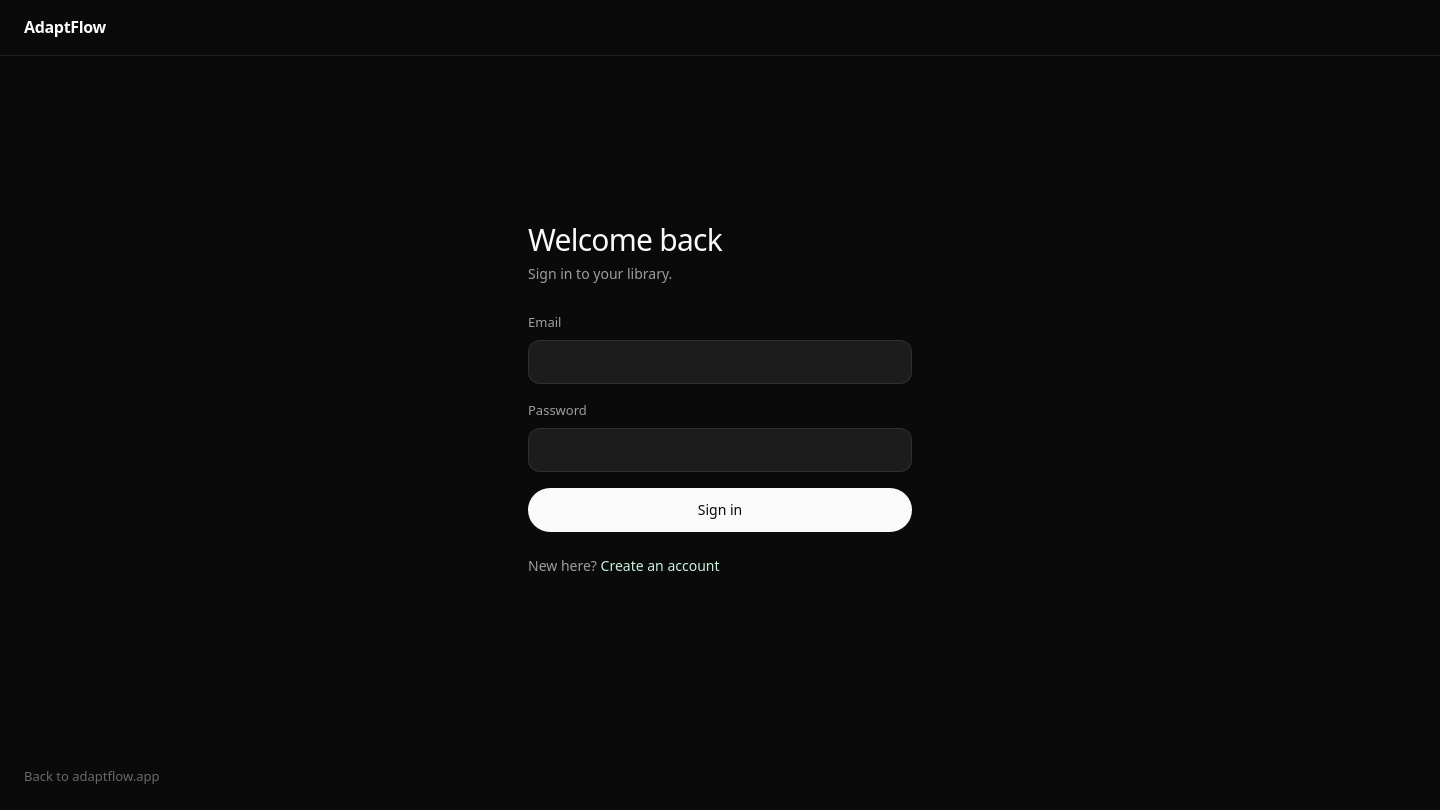
sign in › shows the server's message when the credentials are wrong
Step 1. Type "swapnil@example.com" into the field labelled "Email" → coordinates (720, 362), box [528,340,912,384]
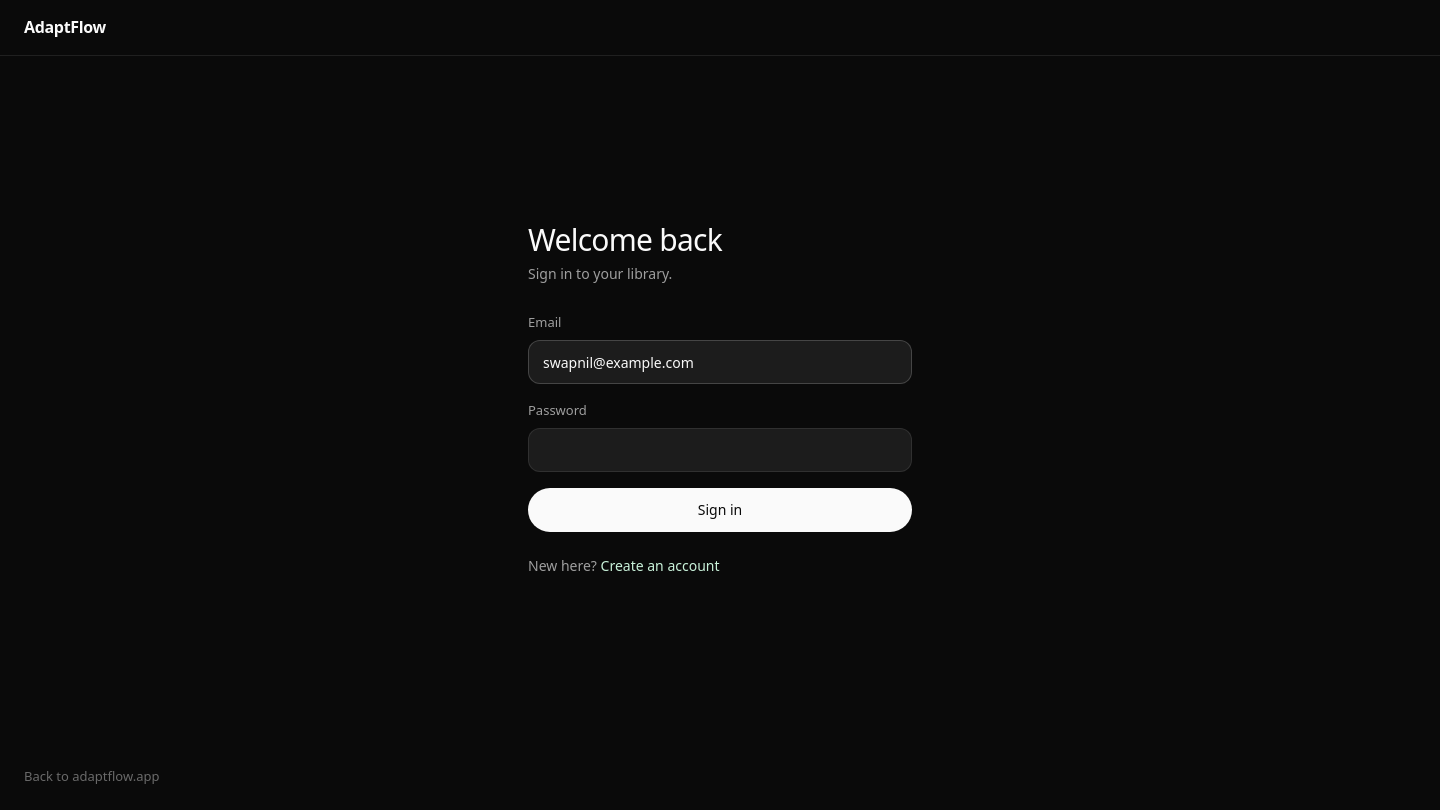
Step 2. Type "wrong" into the password field labelled "Password" → coordinates (720, 450), box [528,428,912,472]
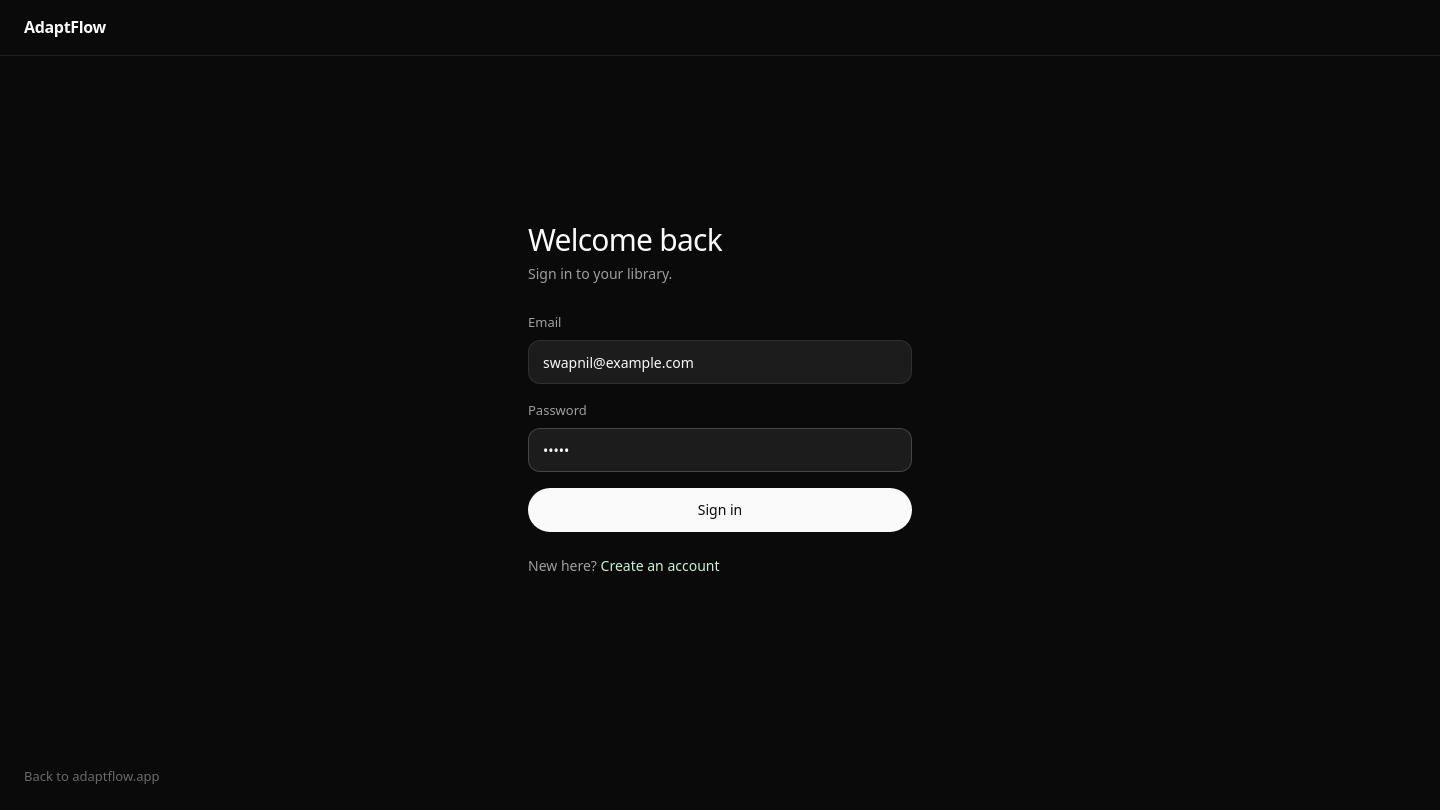
Step 3. Click the button "Sign in" → coordinates (720, 510), box [528,488,912,532]
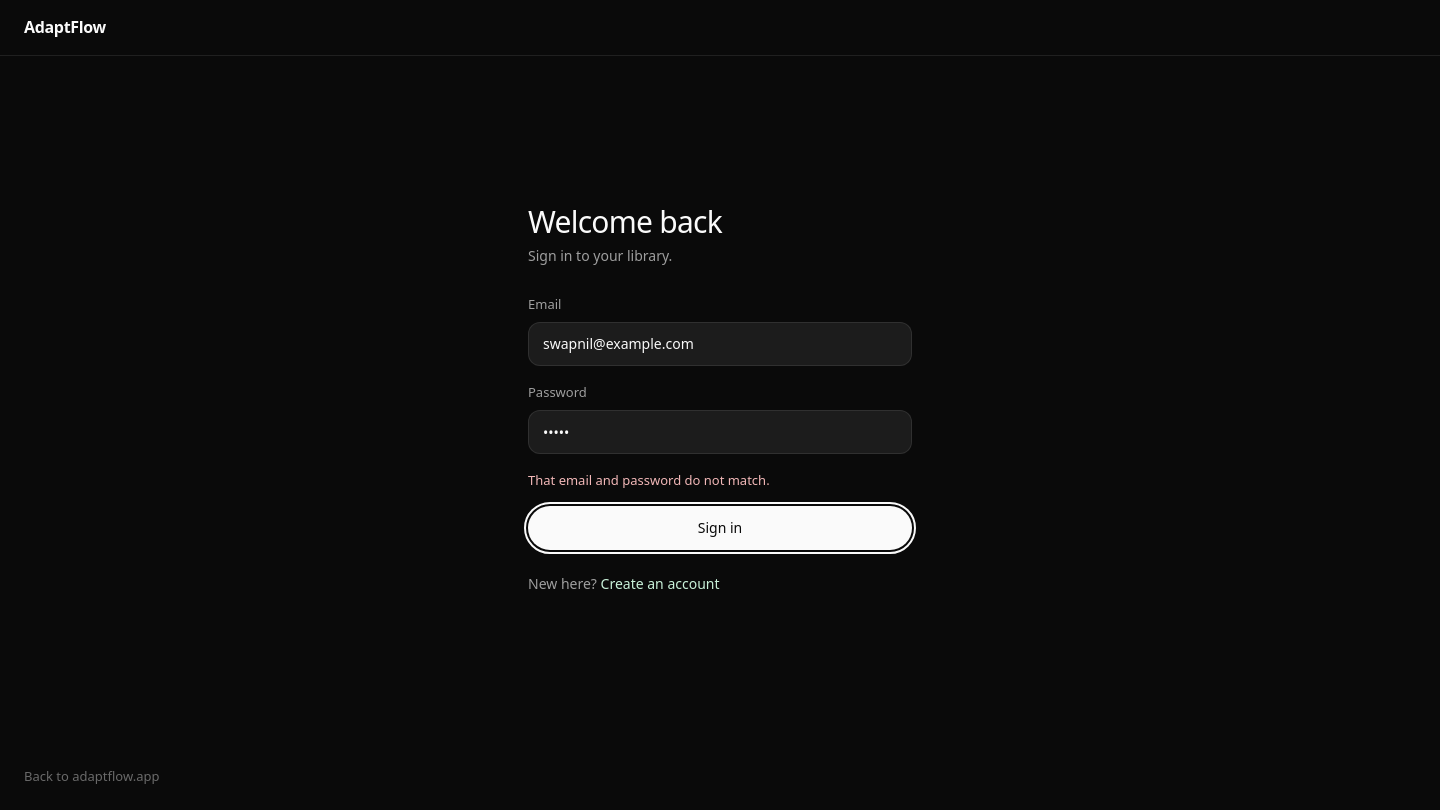
Check: the text "That email and password do not match." is shown, box [528,471,770,489]
